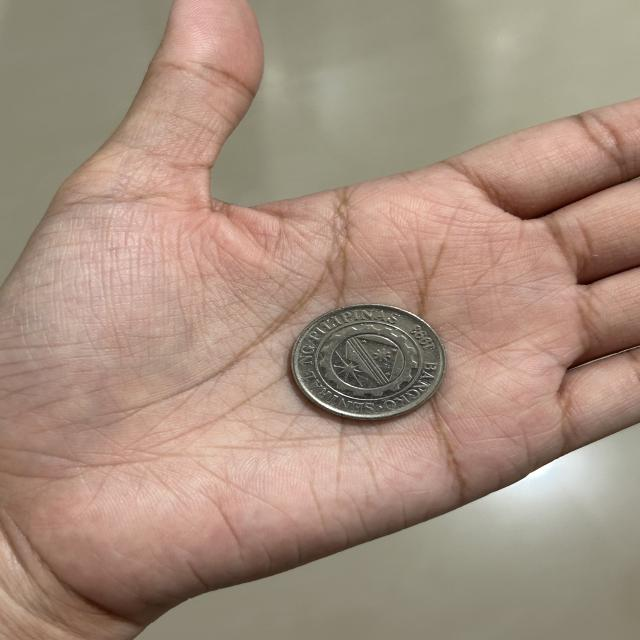1_Old_Back: (310, 318, 426, 406)
